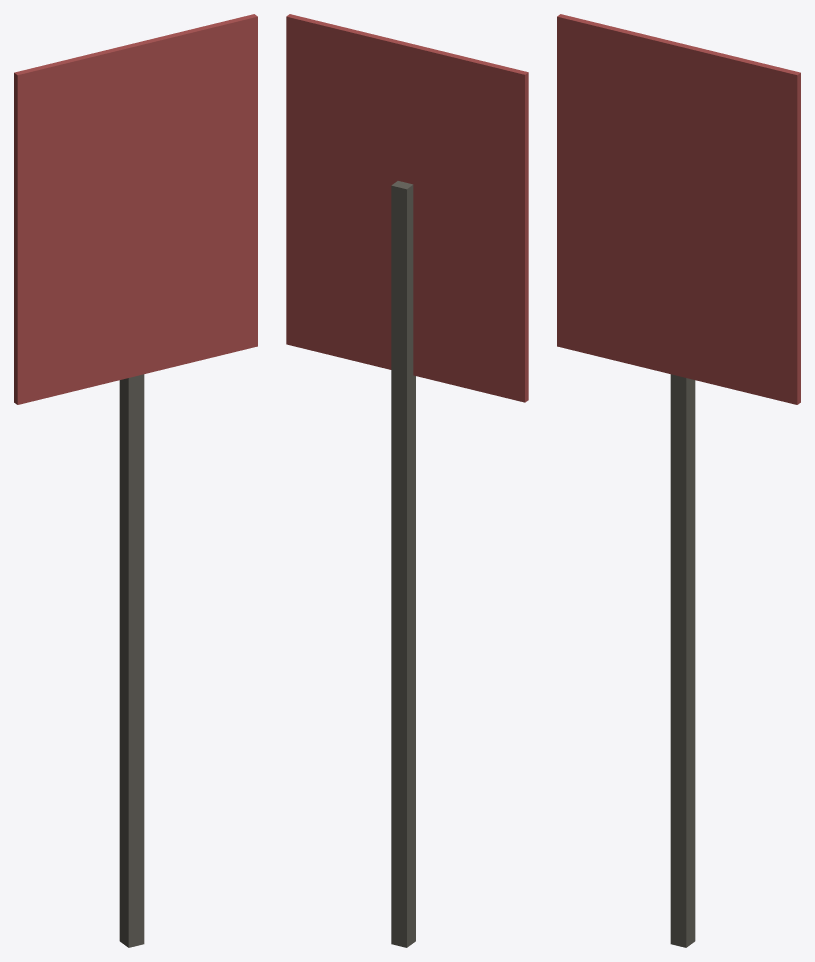
File: RectangleRoadSign.fbx
The picture shows the model from 3 angles, left to right: view 1: azimuth 30°, elevation 25°; view 2: azimuth 150°, elevation 25°; view 3: azimuth 330°, elevation 25°; orthographic projection.
Visible parts, largest first — view 1: Cube.003, Cube; view 2: Cube.003, Cube; view 3: Cube.003, Cube.
Boxes of the visible parts, box(x1,y1,x2,y2) form: Cube.003: box(14, 14, 257, 404); Cube: box(119, 374, 144, 947); Cube.003: box(286, 14, 528, 402); Cube: box(391, 181, 415, 947); Cube.003: box(557, 14, 800, 404); Cube: box(670, 374, 695, 947).
Bounding box in the file's own units: 107 × 383 × 7.92.
